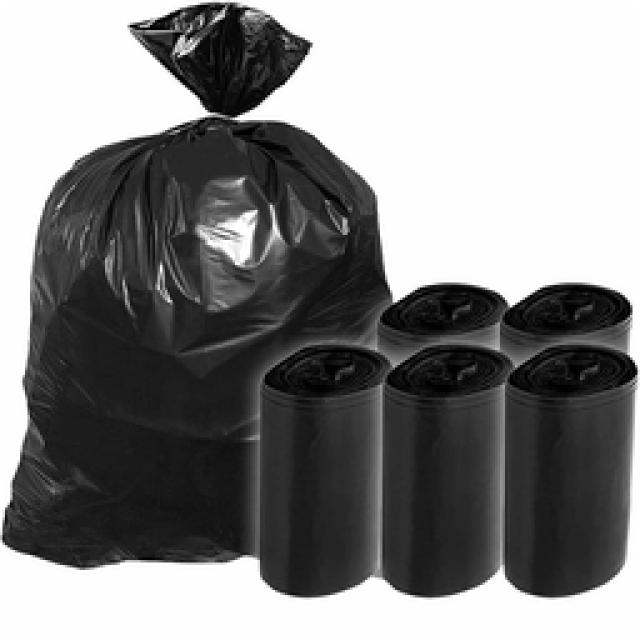plastic: (2, 2, 635, 595)
